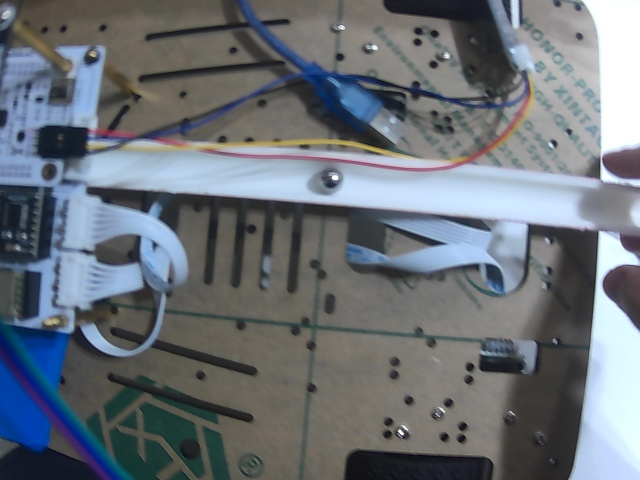steelball: (318, 168, 343, 193)
